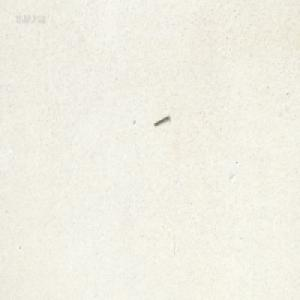Bolt: (153, 114, 169, 126)
